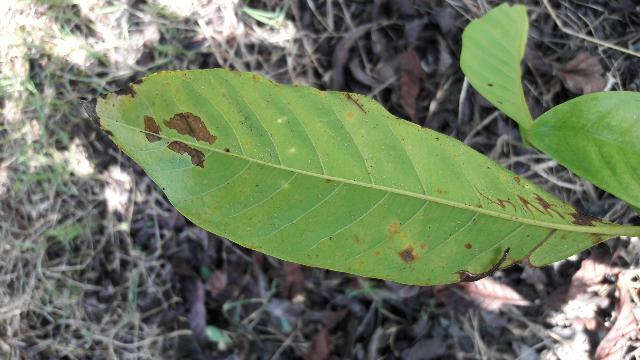rust_level_2: (96, 70, 613, 285)
